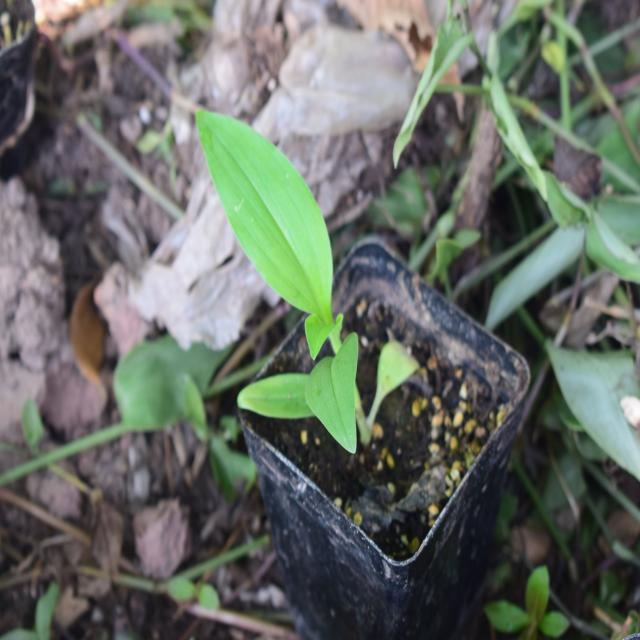Common Dayflower: (196, 114, 400, 453)
